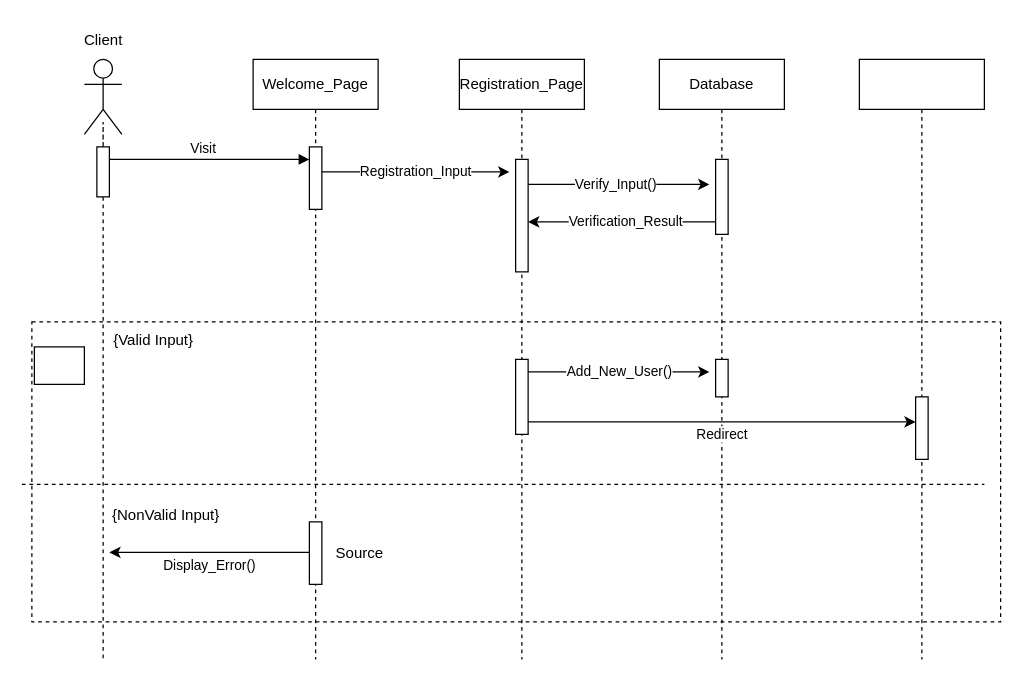
Some shapes in this 1023 by 683 pixel diagram are drawn without their labels. Here are the shapes that lost their labels. From the top down, the box of each, then its label:
(33, 346, 84, 384): Alt
(858, 58, 984, 659): Login_Page
